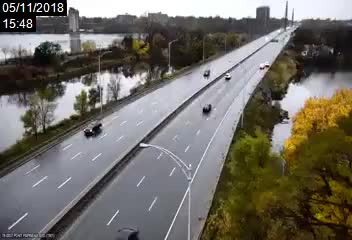personal_car: (117, 222, 141, 240), (83, 119, 103, 136), (202, 103, 212, 112), (224, 72, 232, 80), (203, 69, 211, 77)
